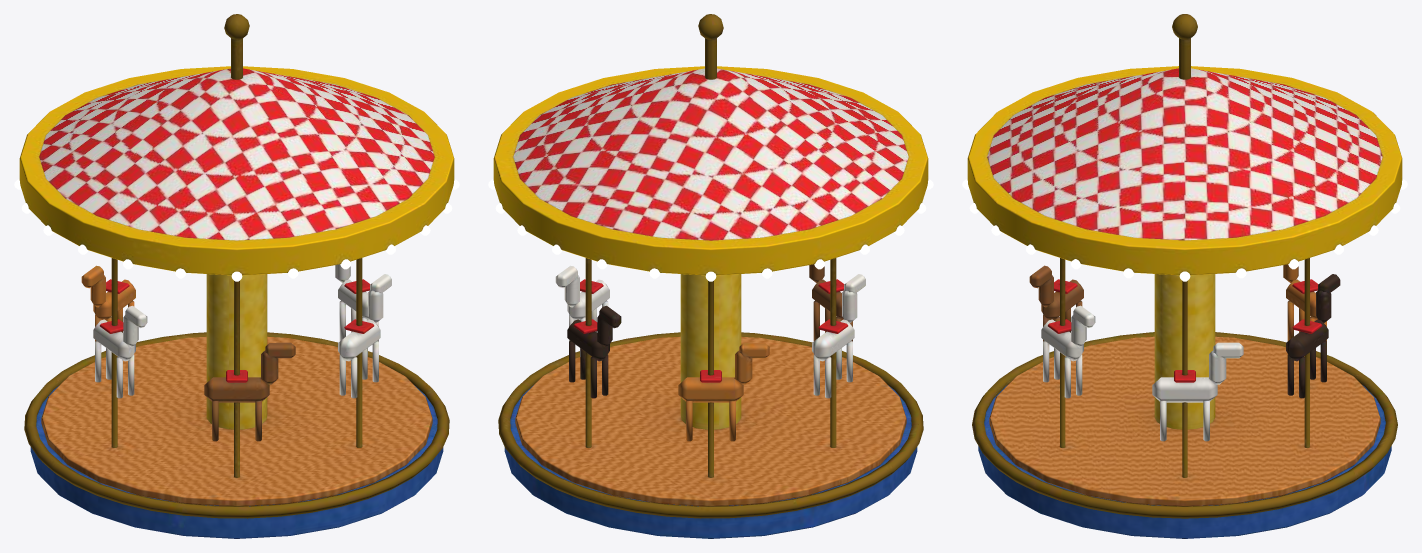
Rendered from carousel.glb.
3 renders of one model, left to right at view 1: azimuth 30°, elevation 25°; view 2: azimuth 150°, elevation 25°; view 3: azimuth 270°, elevation 25°, orthographic.
Parts seen in each view (by area): view 1: spinY_ride, carousel; view 2: spinY_ride, carousel; view 3: spinY_ride, carousel.
Boxes of the visible parts, x1,y1,x2,y2 form: spinY_ride: (14, 14, 459, 506); carousel: (24, 332, 449, 538); spinY_ride: (488, 14, 933, 506); carousel: (498, 332, 923, 538); spinY_ride: (962, 14, 1407, 506); carousel: (972, 332, 1397, 538).
Size of the model in its own units: 2.04 by 2.22 by 2.05.
1 material, 1 textured.
